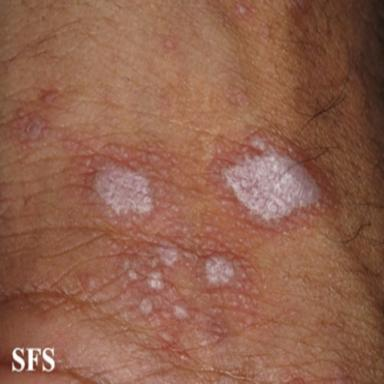lichen: (60, 131, 261, 364), (206, 122, 344, 236), (25, 116, 44, 140), (165, 39, 175, 49), (239, 6, 246, 14)
